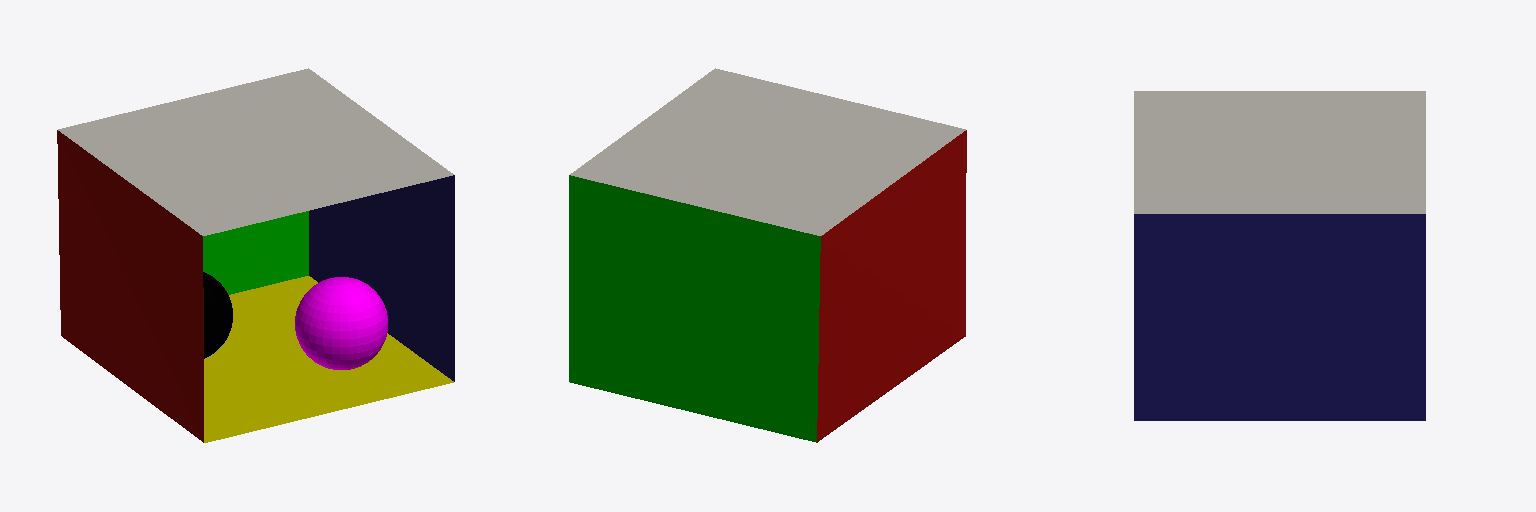
Rendered from CornellBox-Sphere - Copy.obj.
The picture shows the model from 3 angles: view 1: azimuth 30°, elevation 25°; view 2: azimuth 150°, elevation 25°; view 3: azimuth 270°, elevation 25°; orthographic projection.
Visible parts, largest first — view 1: ceiling, leftWall, floor, rightWall, rightSphere, backWall, leftSphere; view 2: backWall, ceiling, leftWall; view 3: rightWall, ceiling.
Part boxes in pixels (bbox=[...]): ceiling: bbox=[58, 68, 453, 235]; leftWall: bbox=[57, 130, 203, 442]; floor: bbox=[204, 276, 453, 442]; rightWall: bbox=[309, 175, 454, 381]; rightSphere: bbox=[295, 277, 387, 369]; backWall: bbox=[203, 211, 308, 294]; leftSphere: bbox=[203, 272, 232, 358]; backWall: bbox=[569, 175, 820, 442]; ceiling: bbox=[570, 68, 965, 235]; leftWall: bbox=[817, 130, 966, 442]; rightWall: bbox=[1134, 214, 1425, 420]; ceiling: bbox=[1134, 91, 1425, 213].
Size of the model in its own units: 2.02 by 1.59 by 2.03.